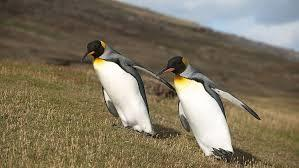king: (159, 50, 257, 158), (79, 32, 159, 143)
